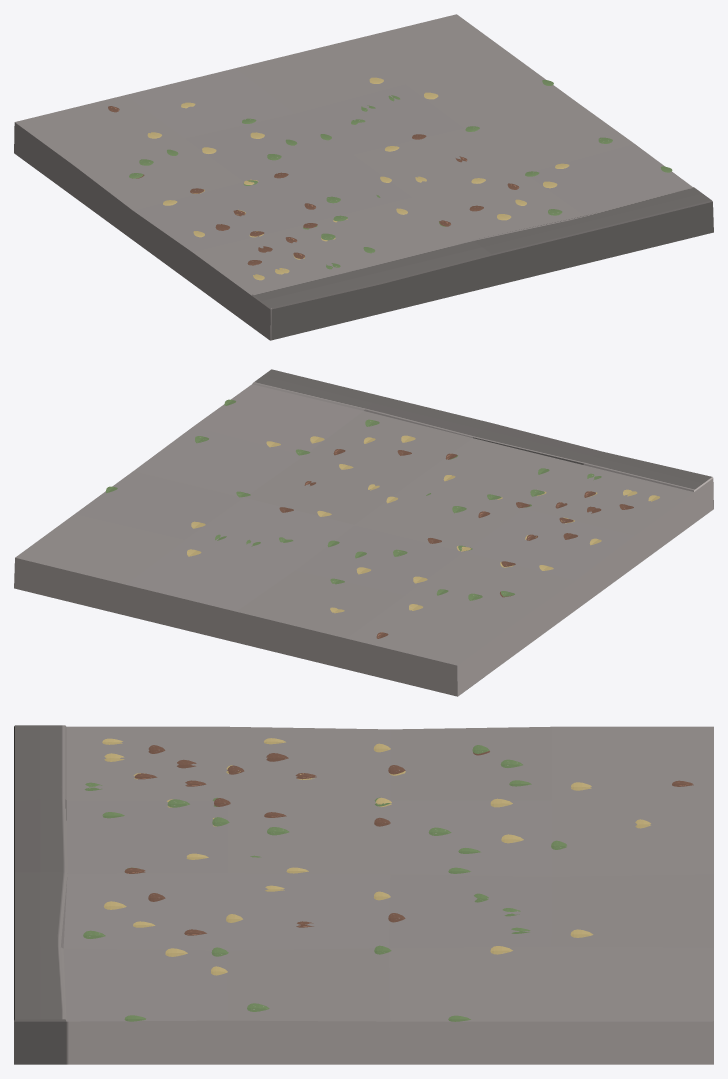
File: Pavement.fbx
3 views of the same model, one above another, from view 1: azimuth 30°, elevation 25°; view 2: azimuth 150°, elevation 25°; view 3: azimuth 270°, elevation 25° (orthographic). The views are drawn at different scales.
Visible parts, largest first — view 1: Pavement_01; view 2: Pavement_01; view 3: Pavement_01.
Part boxes in pixels (left/top/right/bottom): Pavement_01: left=14, top=14, right=713, bottom=340; Pavement_01: left=14, top=369, right=713, bottom=696; Pavement_01: left=14, top=725, right=713, bottom=1064.
Size of the model in its own units: 301 by 20.88 by 300.
